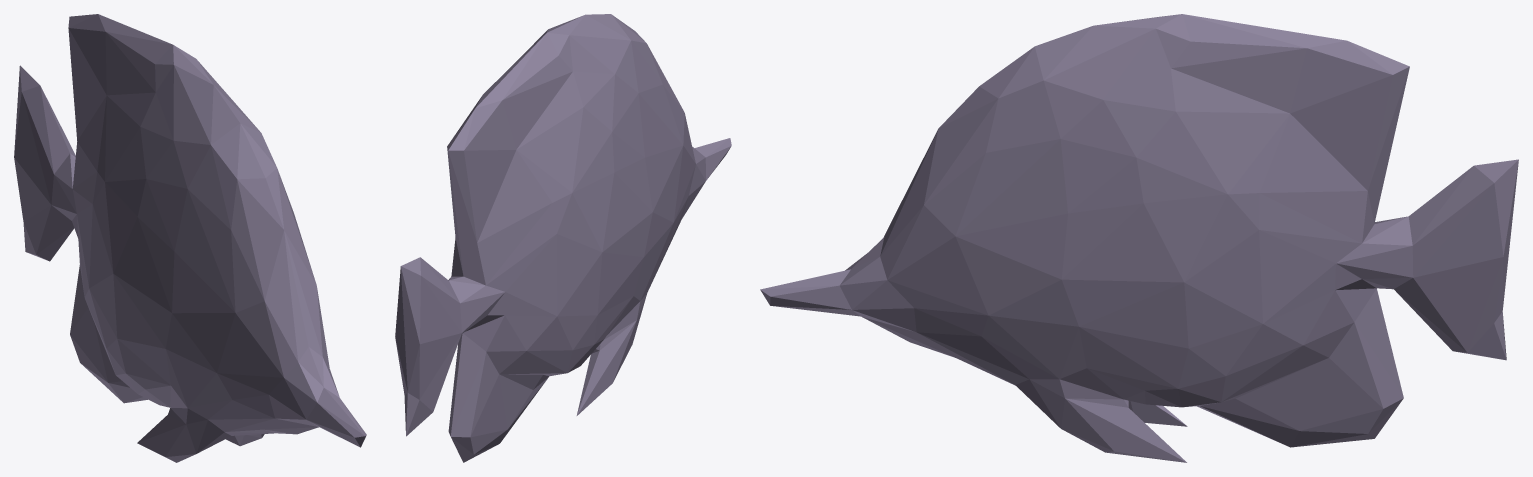
The model's file is Fish_07.fbx.
3 views of the same model, side by side, from view 1: azimuth 30°, elevation 25°; view 2: azimuth 150°, elevation 25°; view 3: azimuth 270°, elevation 25° (orthographic). The views are drawn at different scales.
Visible parts, largest first — view 1: Fish_07; view 2: Fish_07; view 3: Fish_07.
Part boxes in pixels (box(x1,y1,x2,y2)): Fish_07: box(14, 14, 366, 462); Fish_07: box(395, 14, 731, 462); Fish_07: box(760, 14, 1518, 462).
Size of the model in its own units: 65.1 by 208 by 330.
